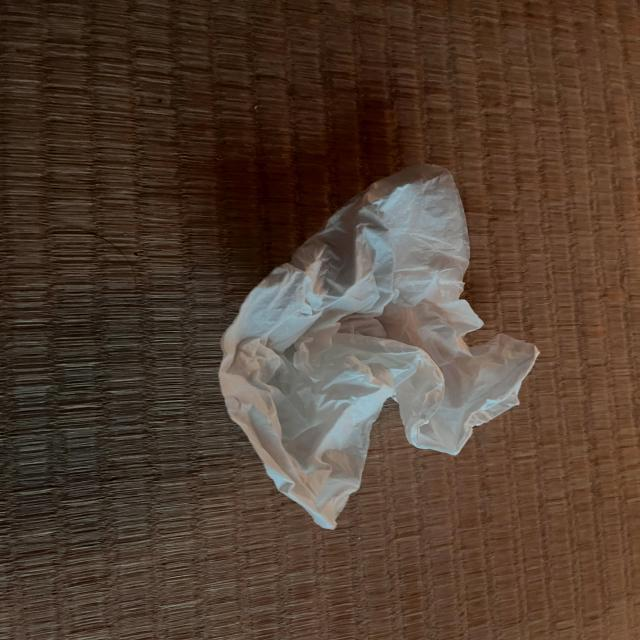Paper: (208, 139, 520, 505)
